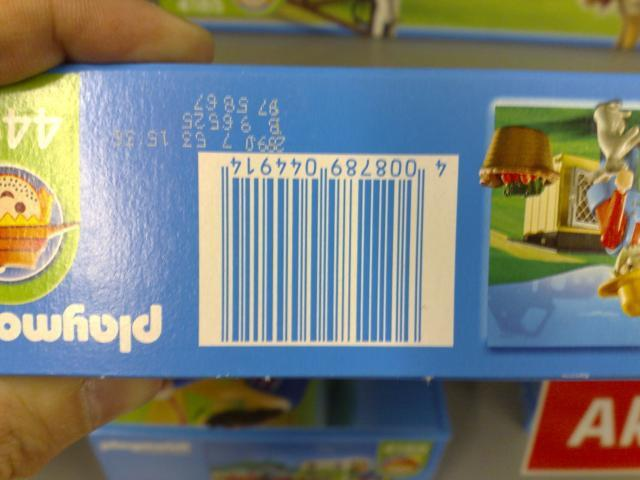Barcode: (197, 151, 456, 348)
